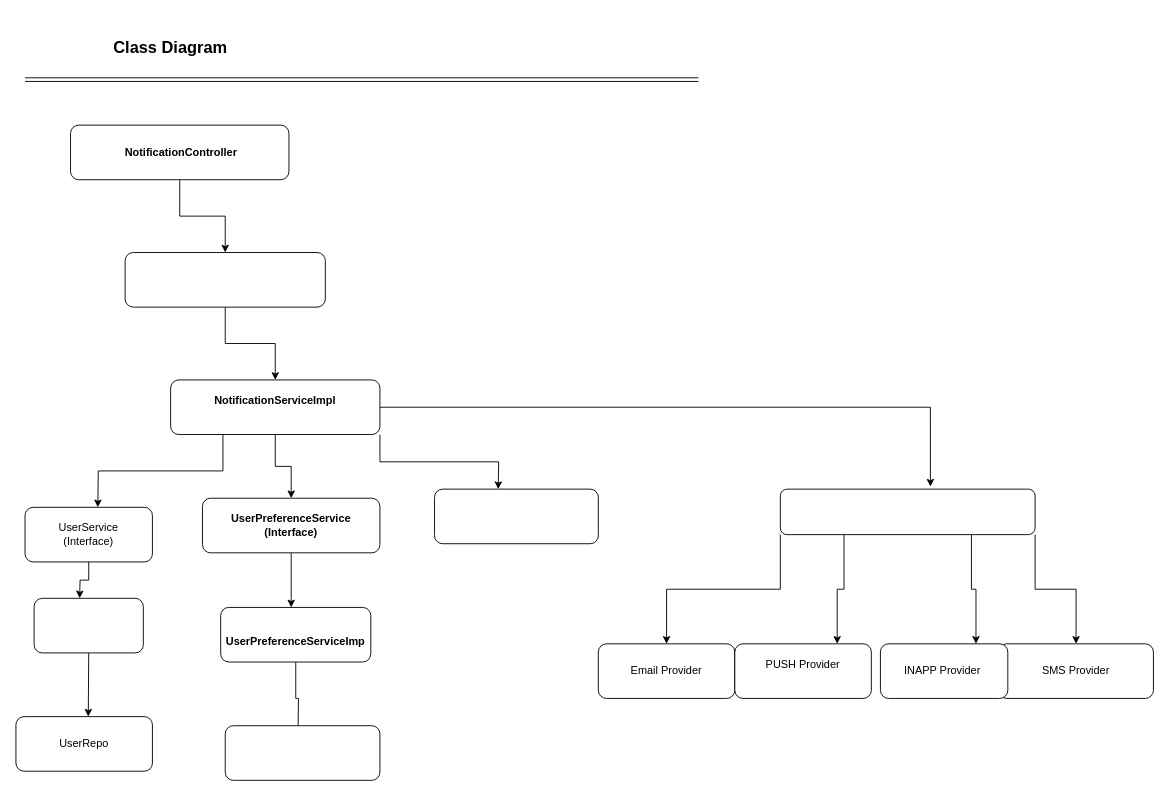
Some shapes in this 1169 by 796 pixel diagram are drawn without their labels. Here are the shapes that lost their labels. From the top down, the box of each, then its label:
(124, 252, 325, 307): NotificationService (Interface)
(434, 488, 598, 544): NotificationHistoryRepo
(779, 488, 1035, 535): NotificationProvider (Interface)
(33, 597, 143, 653): UserServiceImpl
(224, 725, 380, 780): UserPreferenceRepo
